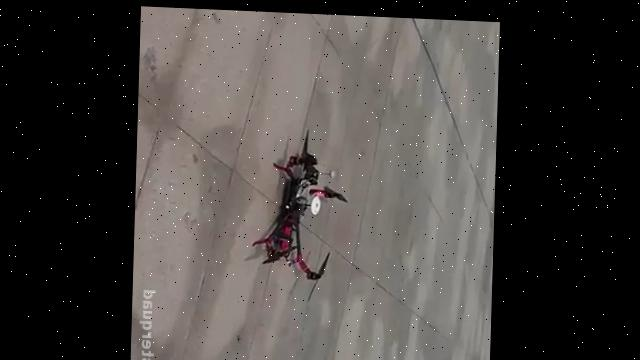drone: (251, 124, 352, 303)
